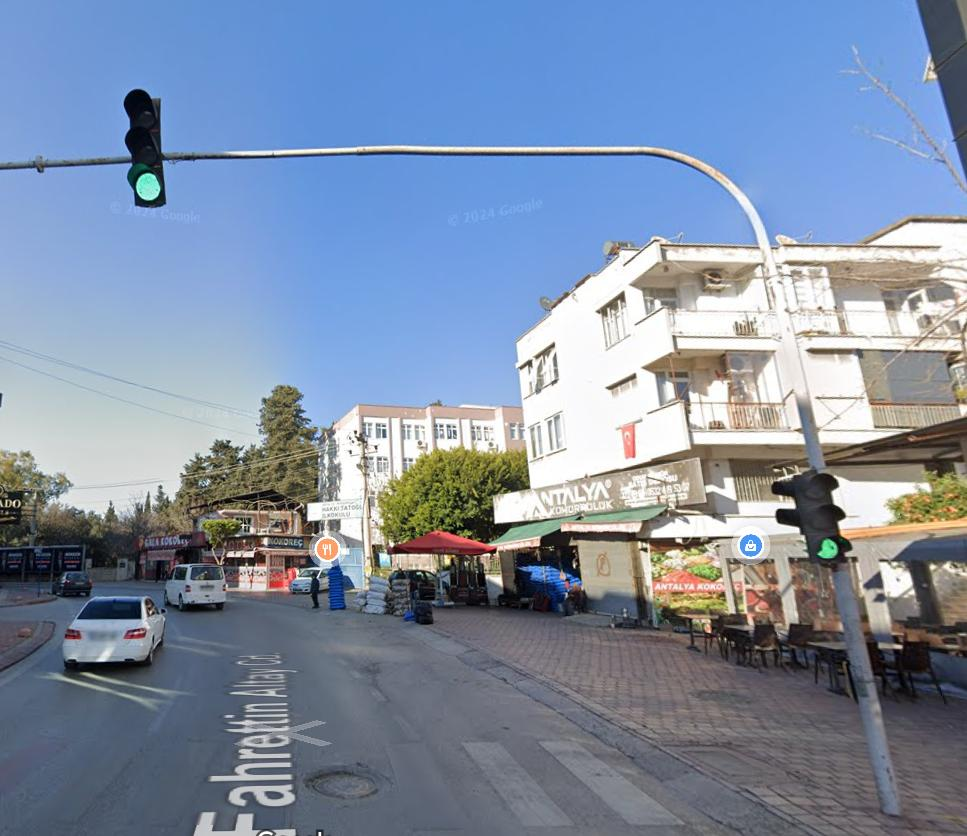greenlight: (121, 85, 165, 210), (798, 470, 851, 558)
